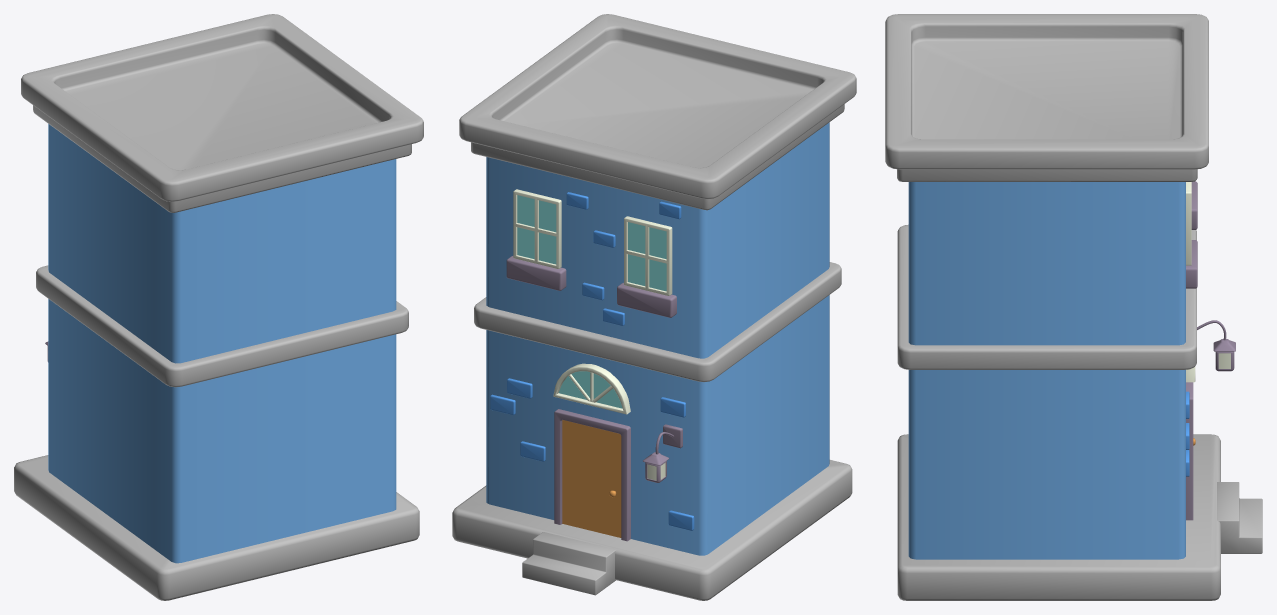
File: blue_build.fbx
3 views of the same model, side by side, from view 1: azimuth 30°, elevation 25°; view 2: azimuth 150°, elevation 25°; view 3: azimuth 270°, elevation 25° (orthographic). The views are drawn at different scales.
Visible parts, largest first — view 1: building_blue_ust, building_blue_alt; view 2: building_blue_ust, building_blue_alt; view 3: building_blue_ust, building_blue_alt.
Boxes of the visible parts, <box> form: building_blue_ust: <box>21,14,423,363</box>; building_blue_alt: <box>14,265,419,600</box>; building_blue_ust: <box>459,14,856,358</box>; building_blue_alt: <box>452,262,852,600</box>; building_blue_ust: <box>885,14,1208,345</box>; building_blue_alt: <box>897,224,1262,600</box>.
Bounding box in the file's own units: 350 × 541 × 408.
Materials: 2 (2 with a texture image).
